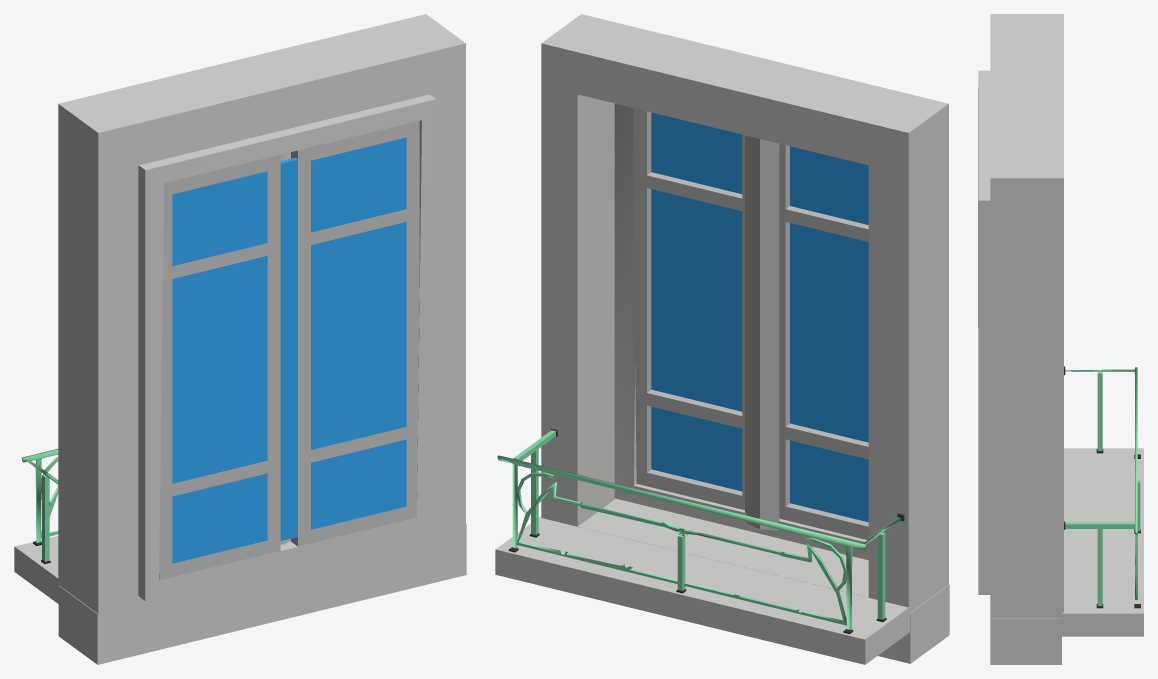
Rendered from win02.FBX.
The picture shows the model from 3 angles, left to right: view 1: azimuth 30°, elevation 25°; view 2: azimuth 150°, elevation 25°; view 3: azimuth 270°, elevation 25°; orthographic projection. The views are drawn at different scales.
Visible parts, largest first — view 1: Rectangle03_网格.024, Box01_网格.022, Rectangle04_网格.021, Box03_网格.023; view 2: Rectangle03_网格.024, Box01_网格.022, Rectangle04_网格.021, Box03_网格.023; view 3: Rectangle03_网格.024, Box03_网格.023.
Part boxes in pixels (x1,y1,x2,y2): Rectangle03_网格.024: (14,14,466,664); Box01_网格.022: (172,137,406,563); Rectangle04_网格.021: (159,121,419,580); Box03_网格.023: (21,449,58,561); Rectangle03_网格.024: (495,14,949,664); Box01_网格.022: (651,112,868,522); Rectangle04_网格.021: (633,108,868,539); Box03_网格.023: (497,430,901,629); Rectangle03_网格.024: (978,14,1143,664); Box03_网格.023: (1065,367,1140,605).
Size of the model in its own units: 32.62 by 77.32 by 106.
